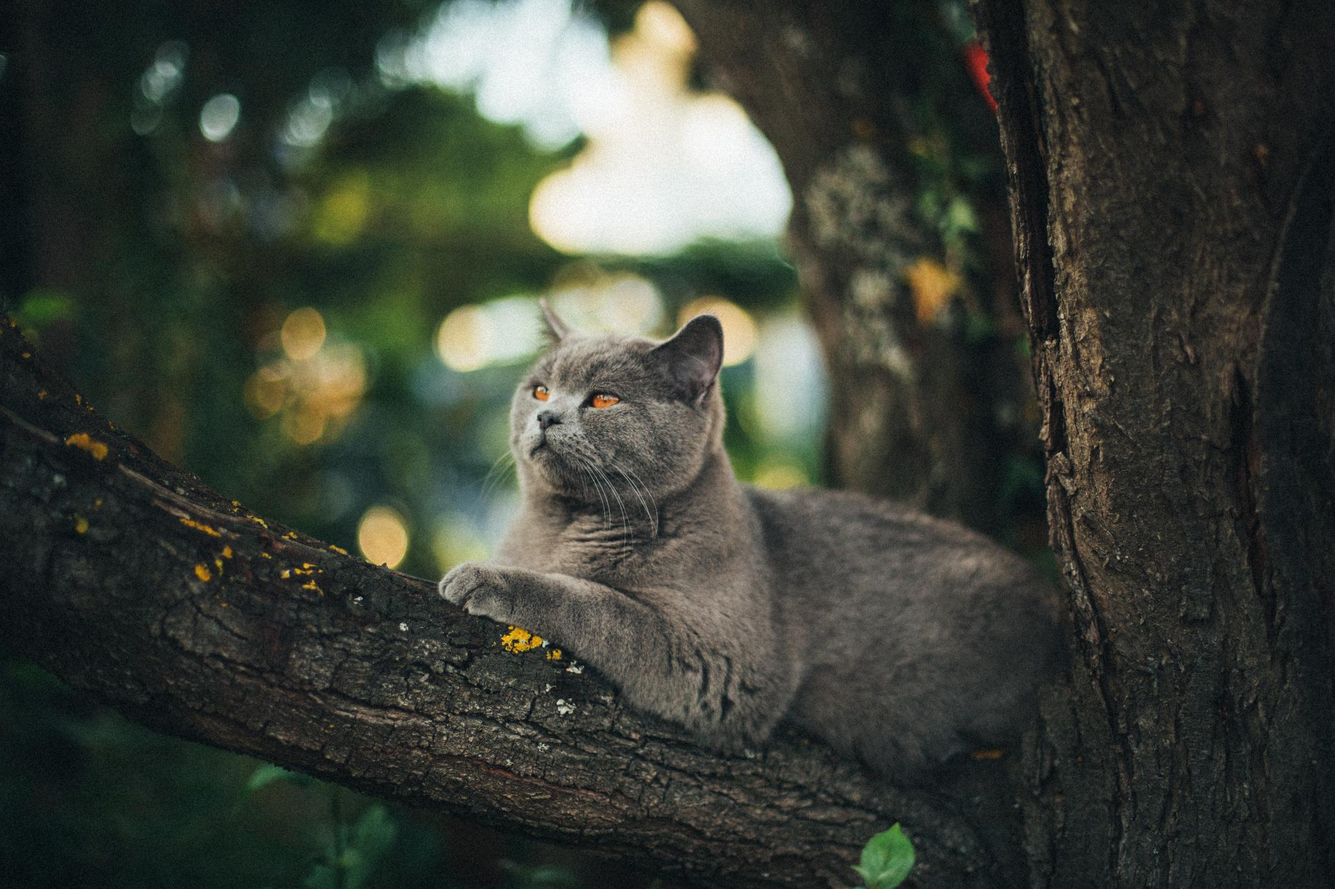cat: (436, 297, 1070, 787)
